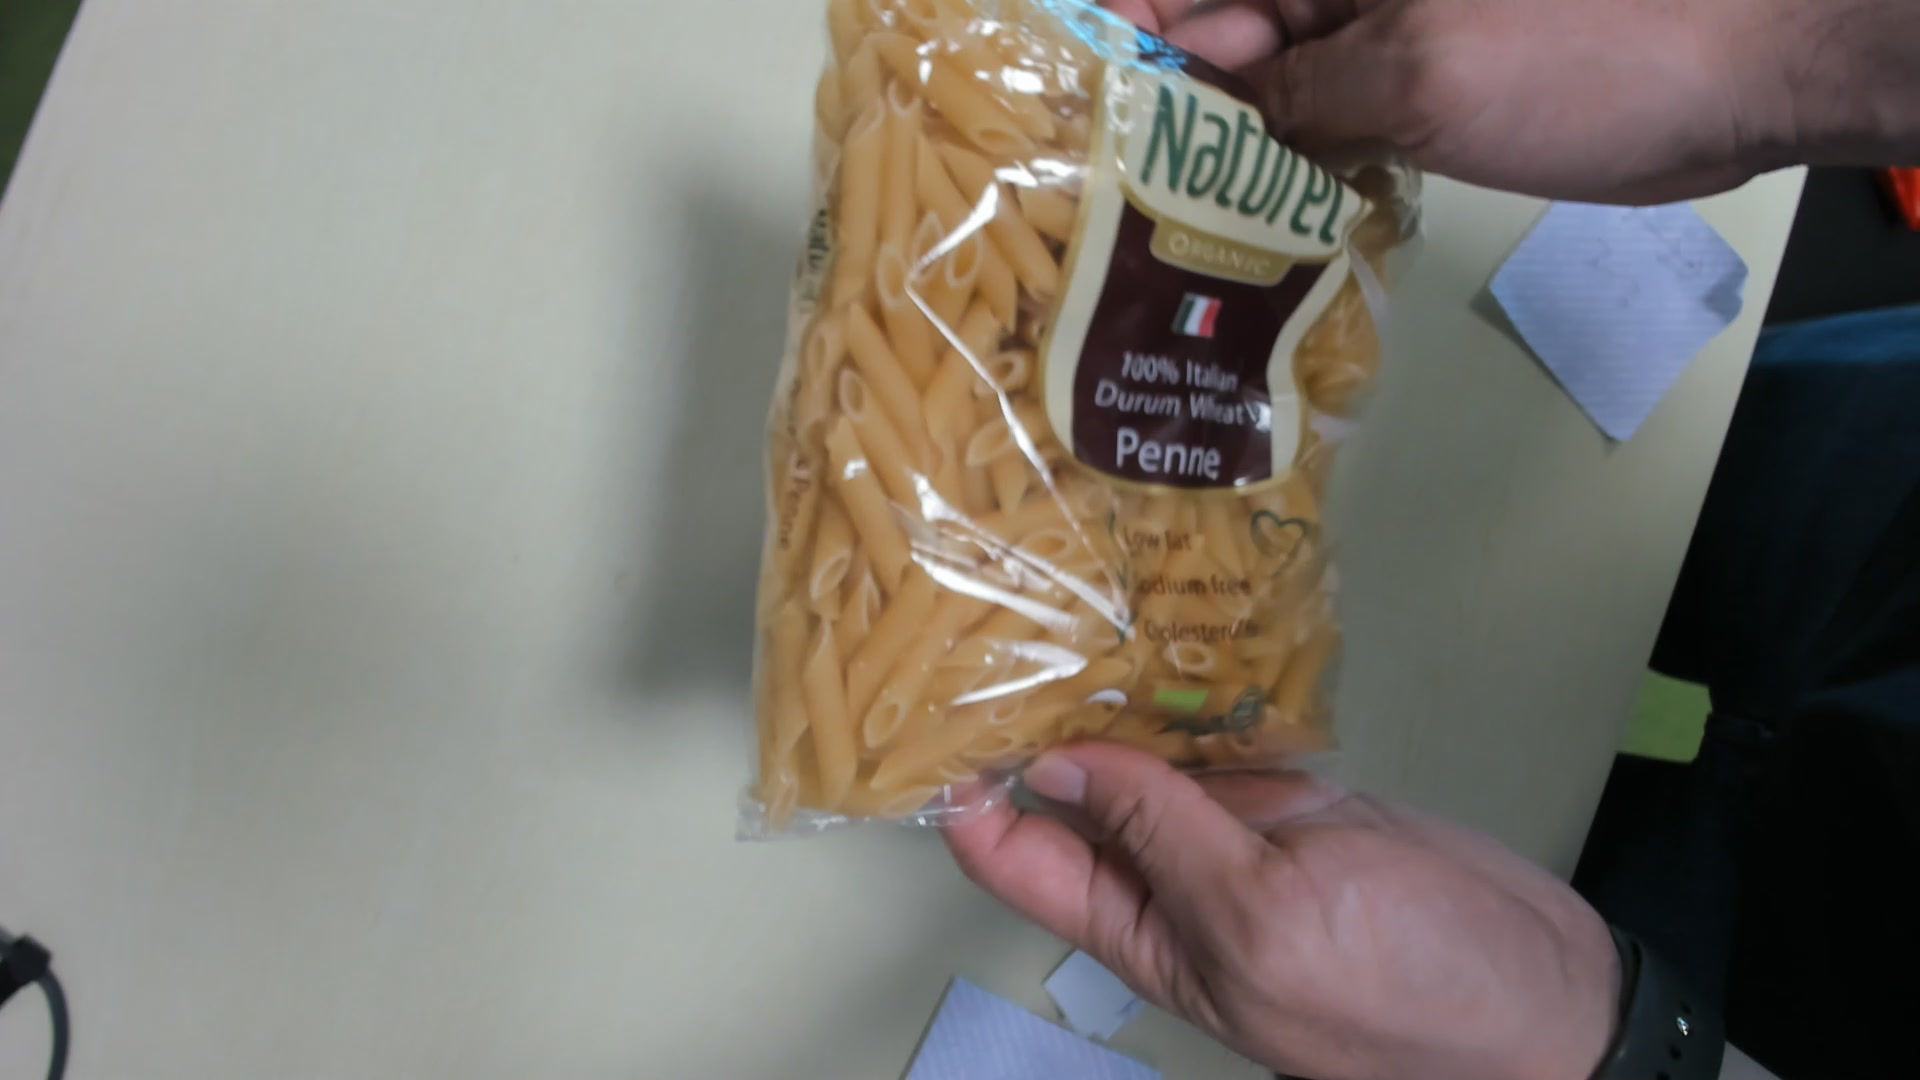Pasta_500-599g_Halal_NonHealthy: (744, 1, 1394, 822)
